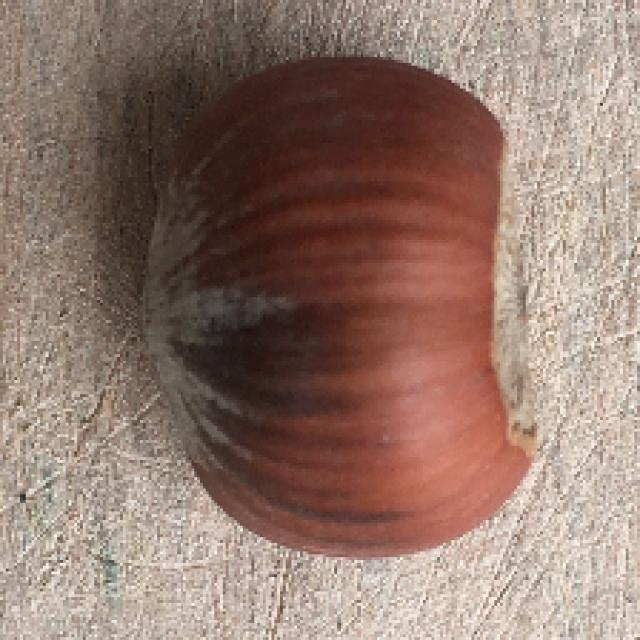qualityHazelnut: (141, 47, 547, 557)
